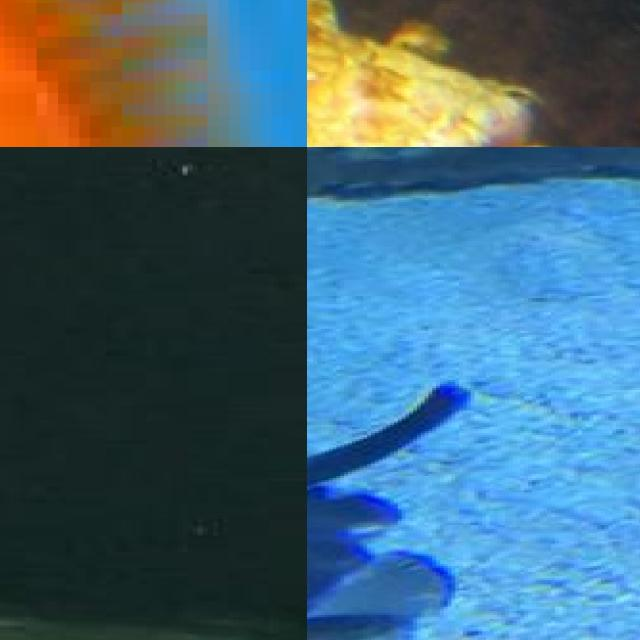fish: (0, 0, 307, 147), (307, 0, 596, 147)
